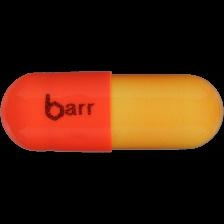0555-0635: (0, 0, 224, 224)
